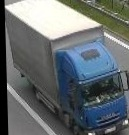truck: (4, 0, 129, 135)
